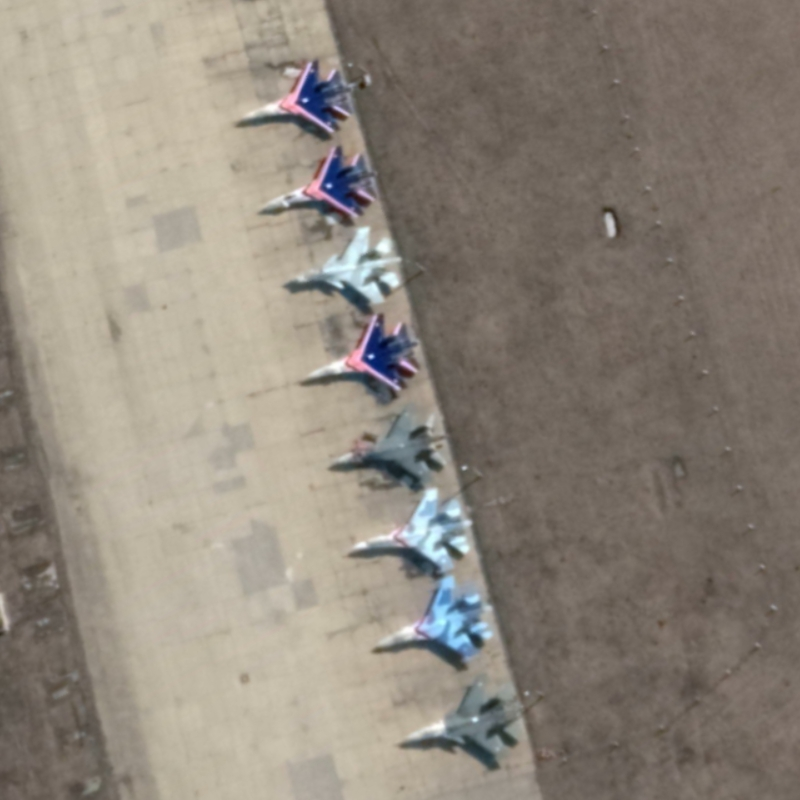A1: (370, 574, 498, 666), (348, 486, 476, 576), (332, 401, 453, 488), (302, 311, 423, 395), (237, 58, 358, 135), (263, 143, 381, 221)
A19: (400, 669, 529, 766), (288, 223, 404, 306)
